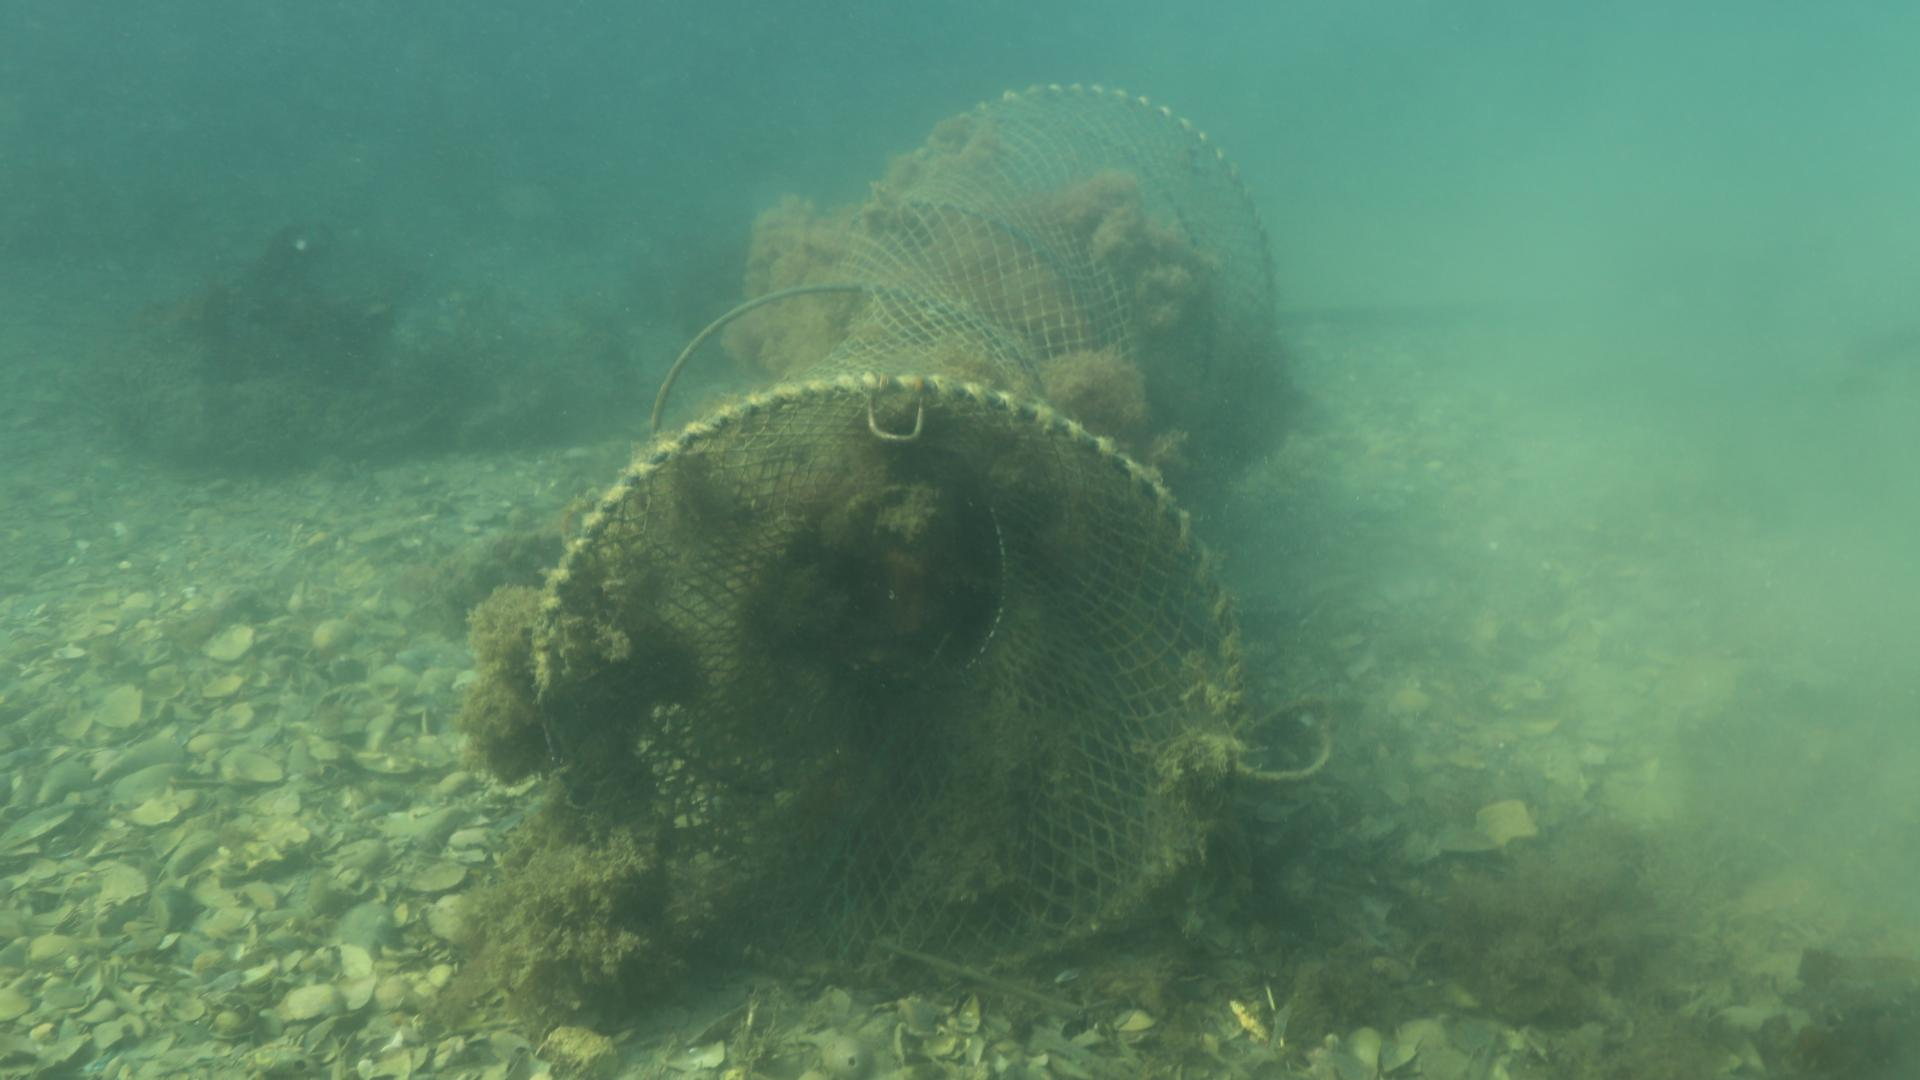rope: (1229, 702, 1346, 783)
spring fish trap: (531, 79, 1280, 992)
